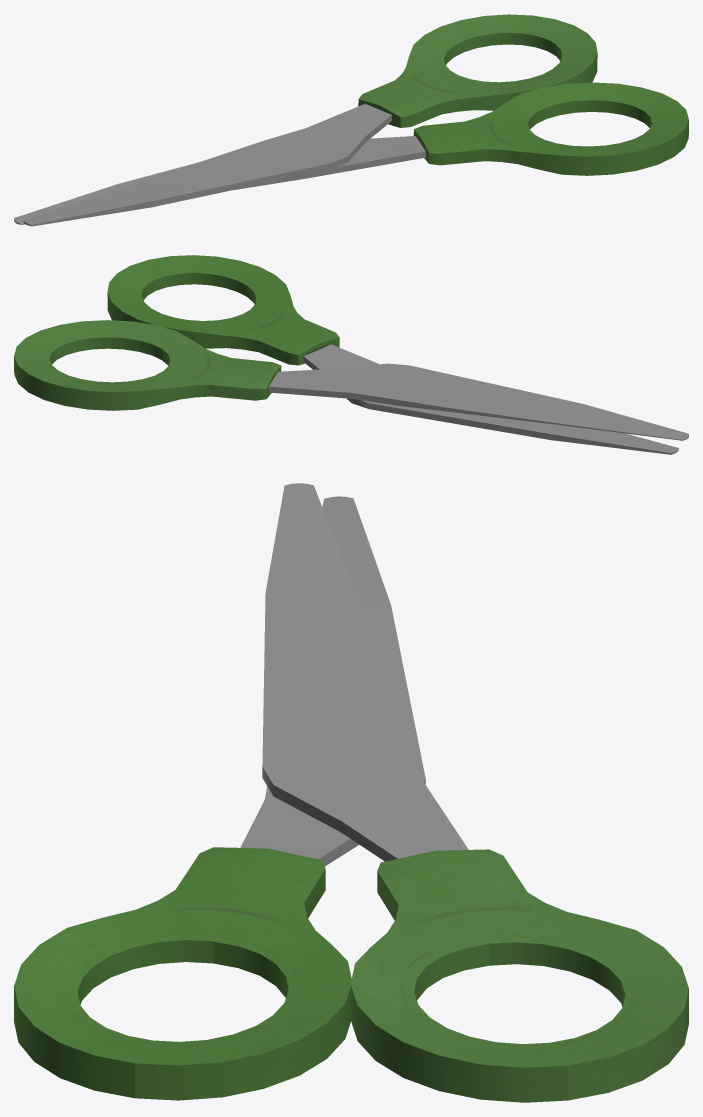
Rendered from SM_Pencil_Jar_01f.fbx.
The picture shows the model from 3 angles, top to bottom: view 1: azimuth 30°, elevation 25°; view 2: azimuth 150°, elevation 25°; view 3: azimuth 270°, elevation 25°; orthographic projection. The views are drawn at different scales.
Parts seen in each view (by area): view 1: SM_Pencil_Jar_01f_LOD0; view 2: SM_Pencil_Jar_01f_LOD0; view 3: SM_Pencil_Jar_01f_LOD0.
Boxes of the visible parts, left/top/right/bottom form: SM_Pencil_Jar_01f_LOD0: left=14, top=14, right=688, bottom=226; SM_Pencil_Jar_01f_LOD0: left=14, top=255, right=688, bottom=454; SM_Pencil_Jar_01f_LOD0: left=14, top=483, right=688, bottom=1102.
Bounding box in the file's own units: 22.07 × 10.99 × 0.8445.
